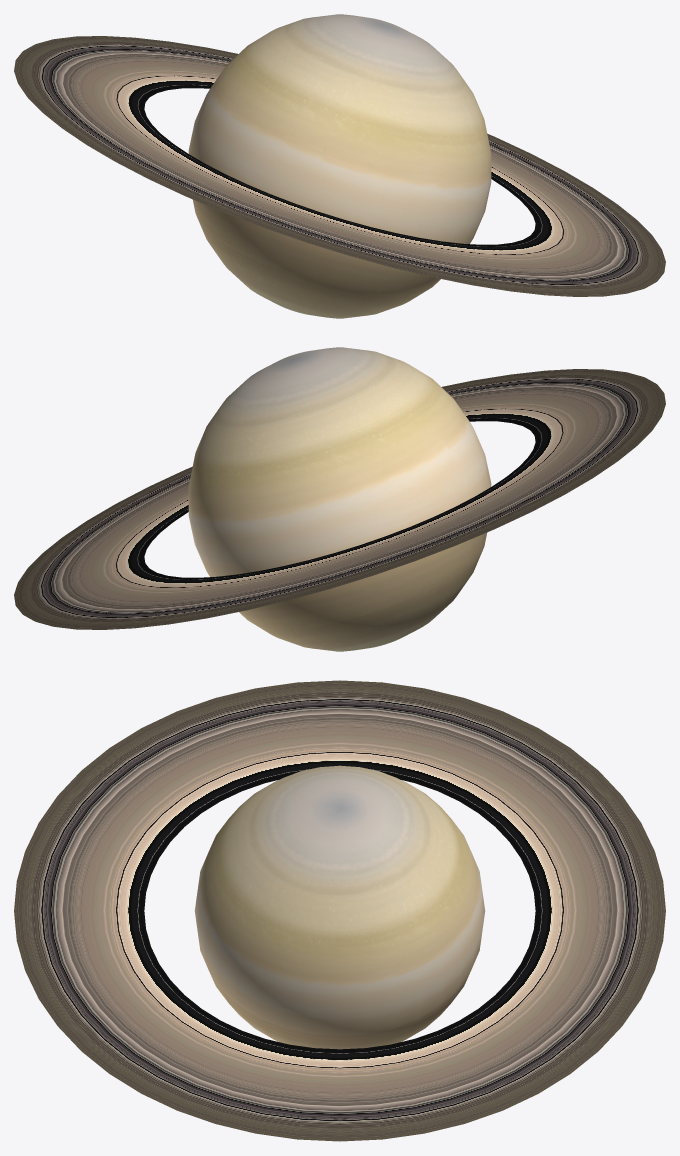
Rendered from saturn.gltf.
3 renders of one model, top to bottom at view 1: azimuth 30°, elevation 25°; view 2: azimuth 150°, elevation 25°; view 3: azimuth 270°, elevation 25°, orthographic. The views are drawn at different scales.
Visible parts, largest first — view 1: Sphere, Torus; view 2: Sphere, Torus; view 3: Torus, Sphere.
Part boxes in pixels (<box>): Sphere: <box>188,14,491,318</box>; Torus: <box>14,36,665,296</box>; Sphere: <box>188,347,491,651</box>; Torus: <box>14,369,665,629</box>; Torus: <box>14,680,665,1141</box>; Sphere: <box>194,765,485,1049</box>.
Size of the model in its own units: 609 by 288 by 648.
Materials: 2 (2 with a texture image).
